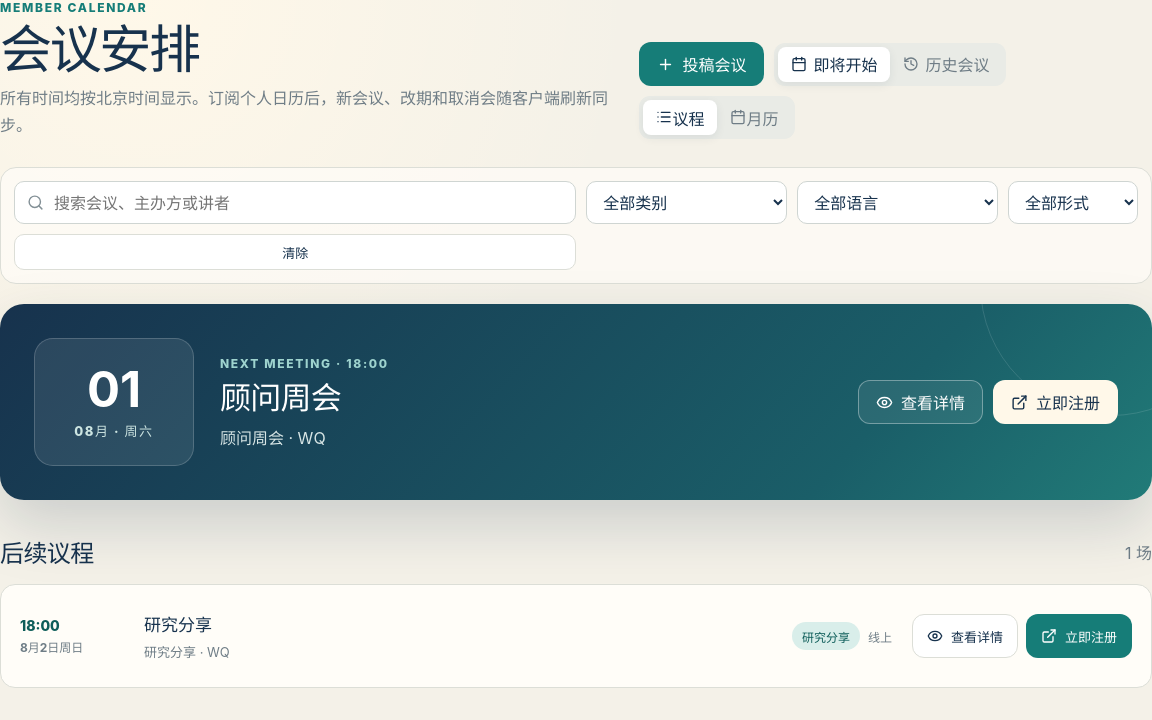
Test case: CalendarView › opens meeting submission as a dialog from the meeting page
Click the button with class "meeting-submit-button": x=702, y=64 top-left (639, 42), bottom-right (764, 86)
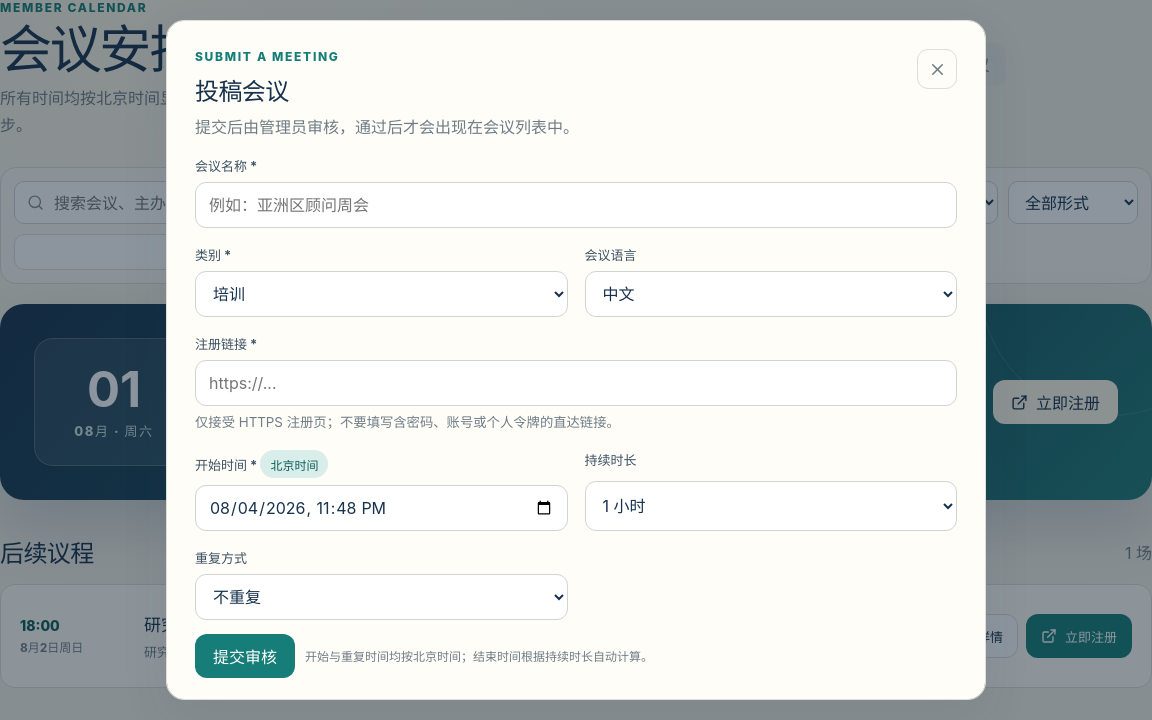
expect the dialog is shown: met
expect the dialog shows "投稿会议": met, box top-left (195, 77), bottom-right (289, 106)
expect the form is shown: met, box top-left (195, 156), bottom-right (957, 678)
